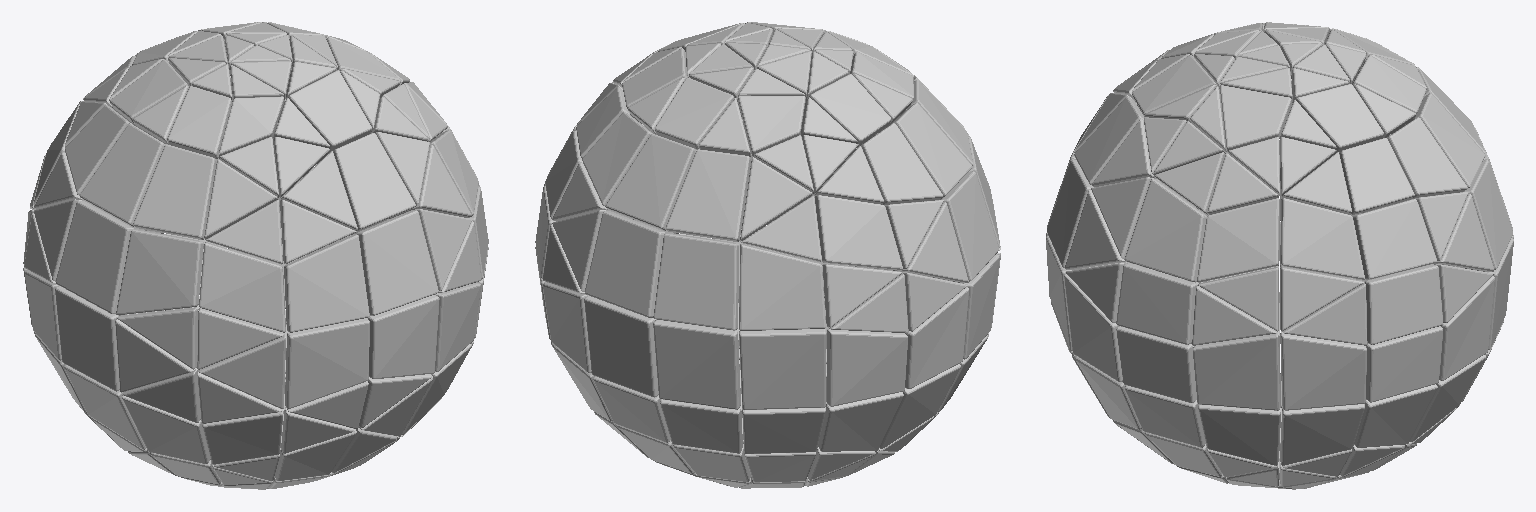
The model's file is uploads_files_2078589_sphere.obj.
The picture shows the model from 3 angles: view 1: azimuth 30°, elevation 25°; view 2: azimuth 150°, elevation 25°; view 3: azimuth 270°, elevation 25°; orthographic projection.
Visible parts, largest first — view 1: Sphere_Sphere.001; view 2: Sphere_Sphere.001; view 3: Sphere_Sphere.001.
Part boxes in pixels (left/top/right/bottom): Sphere_Sphere.001: left=23, top=22, right=488, bottom=489; Sphere_Sphere.001: left=535, top=22, right=1000, bottom=488; Sphere_Sphere.001: left=1046, top=22, right=1513, bottom=489.
Size of the model in its own units: 0.1 by 0.1 by 0.1.